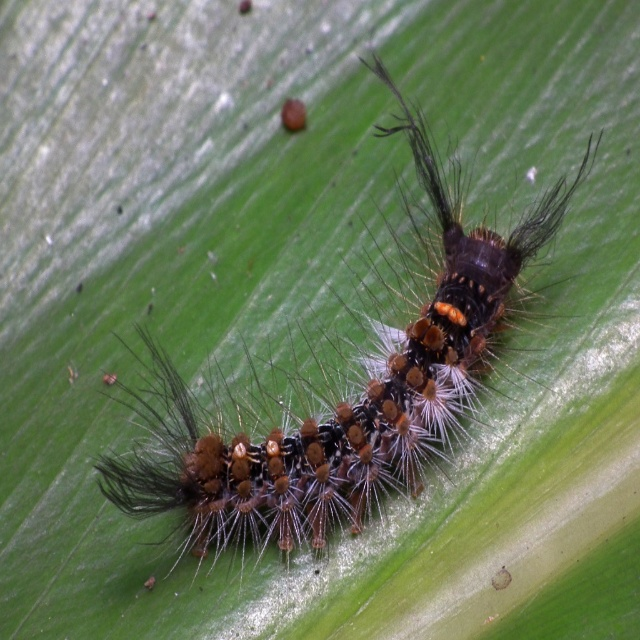Caterpillar: (94, 48, 605, 597)
